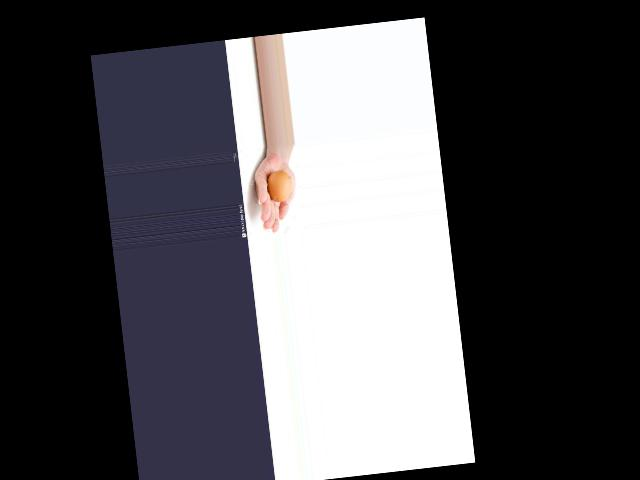egg: (265, 168, 293, 202)
